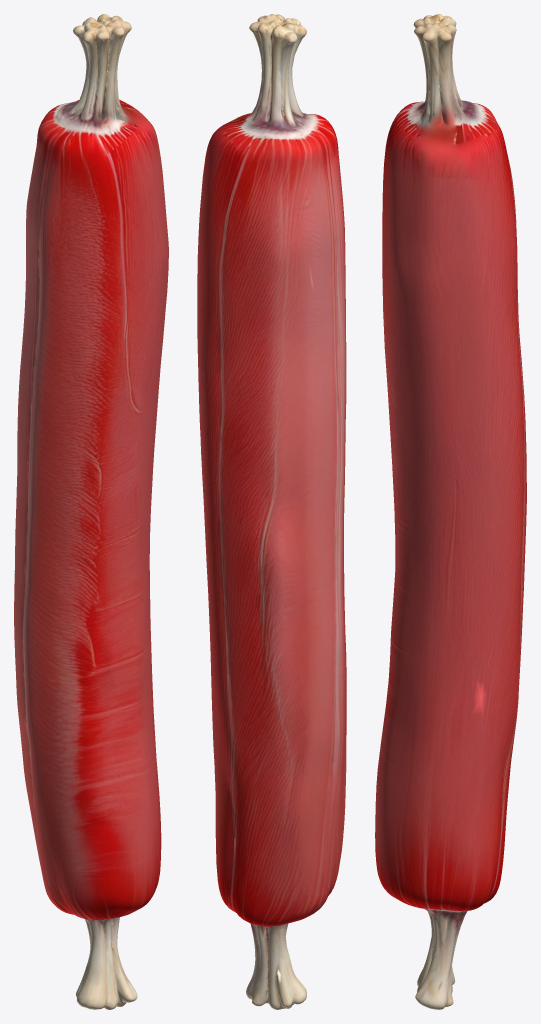
The model's file is pronator-teres.glb.
3 views of the same model, side by side, from view 1: azimuth 30°, elevation 25°; view 2: azimuth 150°, elevation 25°; view 3: azimuth 270°, elevation 25° (orthographic).
Visible parts, largest first — view 1: pronator-teres; view 2: pronator-teres; view 3: pronator-teres.
Part boxes in pixels (x1,y1,x2,y2): pronator-teres: (14, 14, 168, 1009); pronator-teres: (197, 14, 346, 1009); pronator-teres: (375, 14, 526, 1009).
Bounding box in the file's own units: 0.1398 × 1 × 0.14.
1 material, 1 textured.
